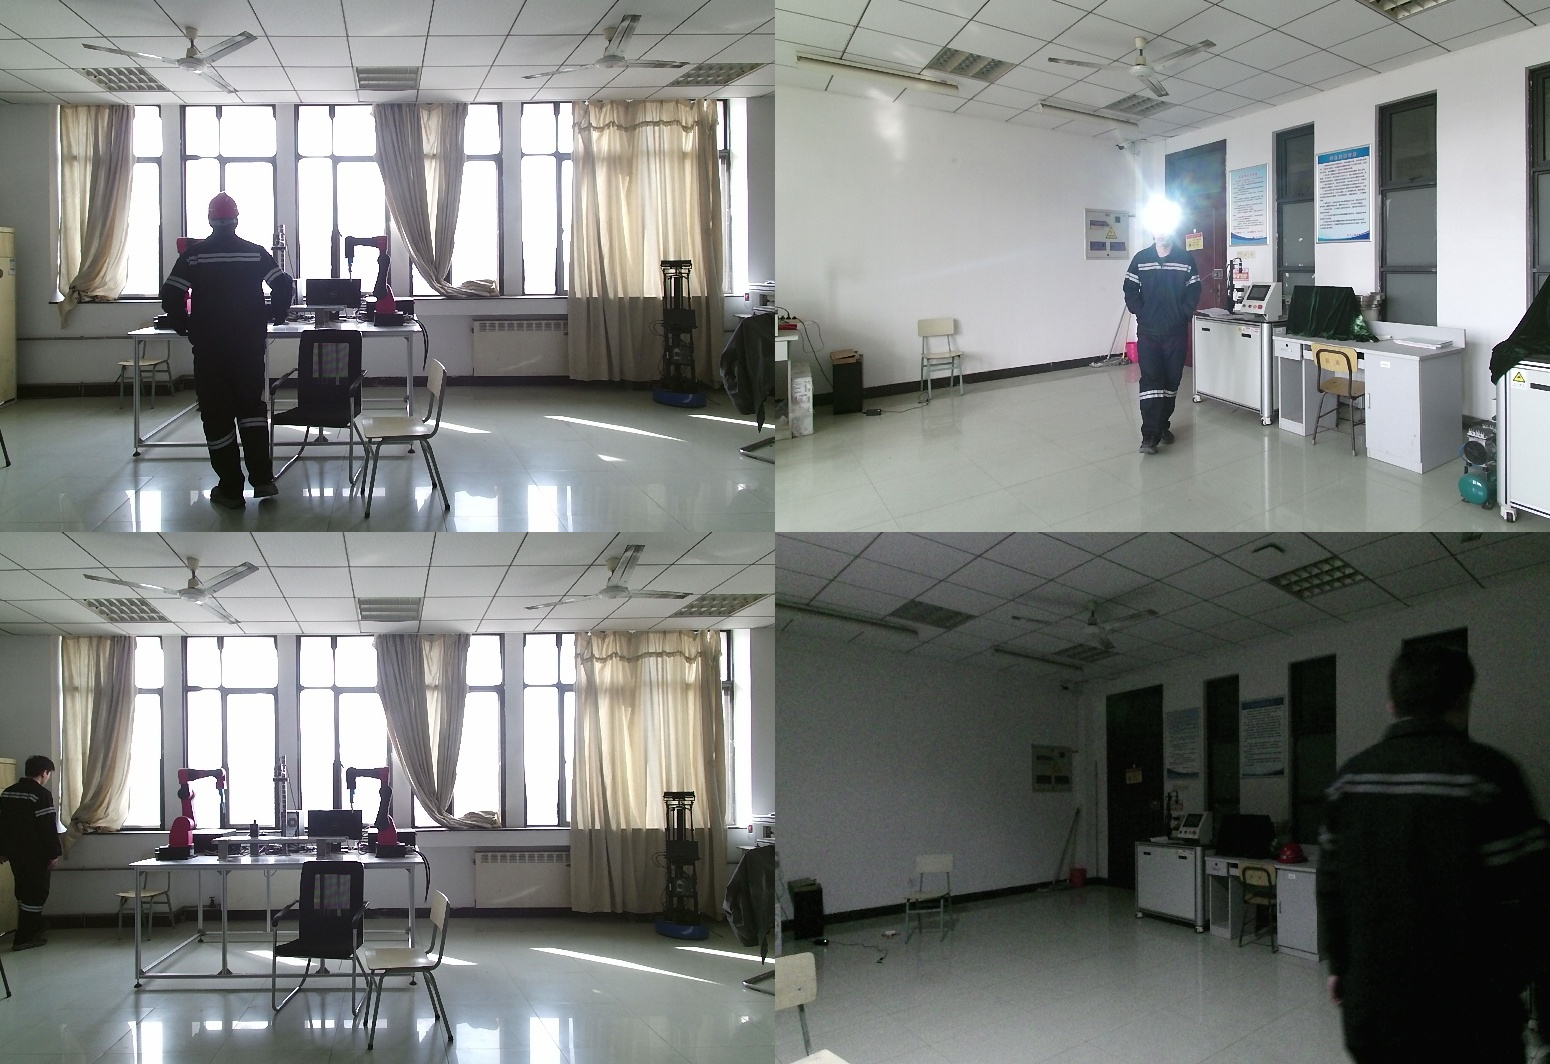person: (1322, 631, 1550, 1064), (163, 194, 298, 506), (1125, 217, 1210, 452), (1, 756, 68, 949)
